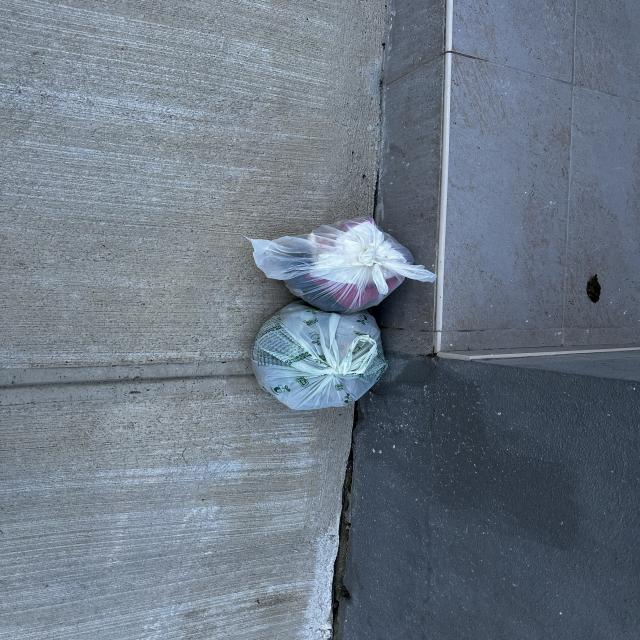Organic Waste -White Bags-: (245, 216, 437, 409)
